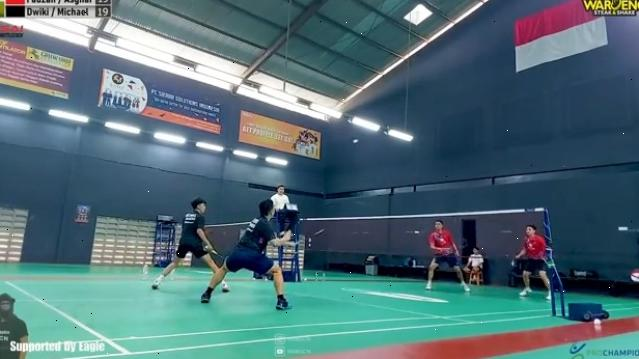Shuttlecock: (351, 136, 363, 146)
